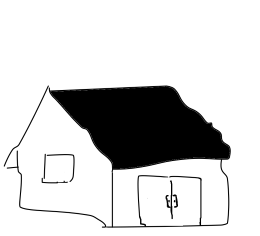bottom_placed_house: (1, 1, 260, 236)
door: (134, 170, 208, 231)
open_window: (38, 150, 83, 186)
shaded_roof: (11, 75, 236, 171)
wall: (105, 140, 233, 230)
